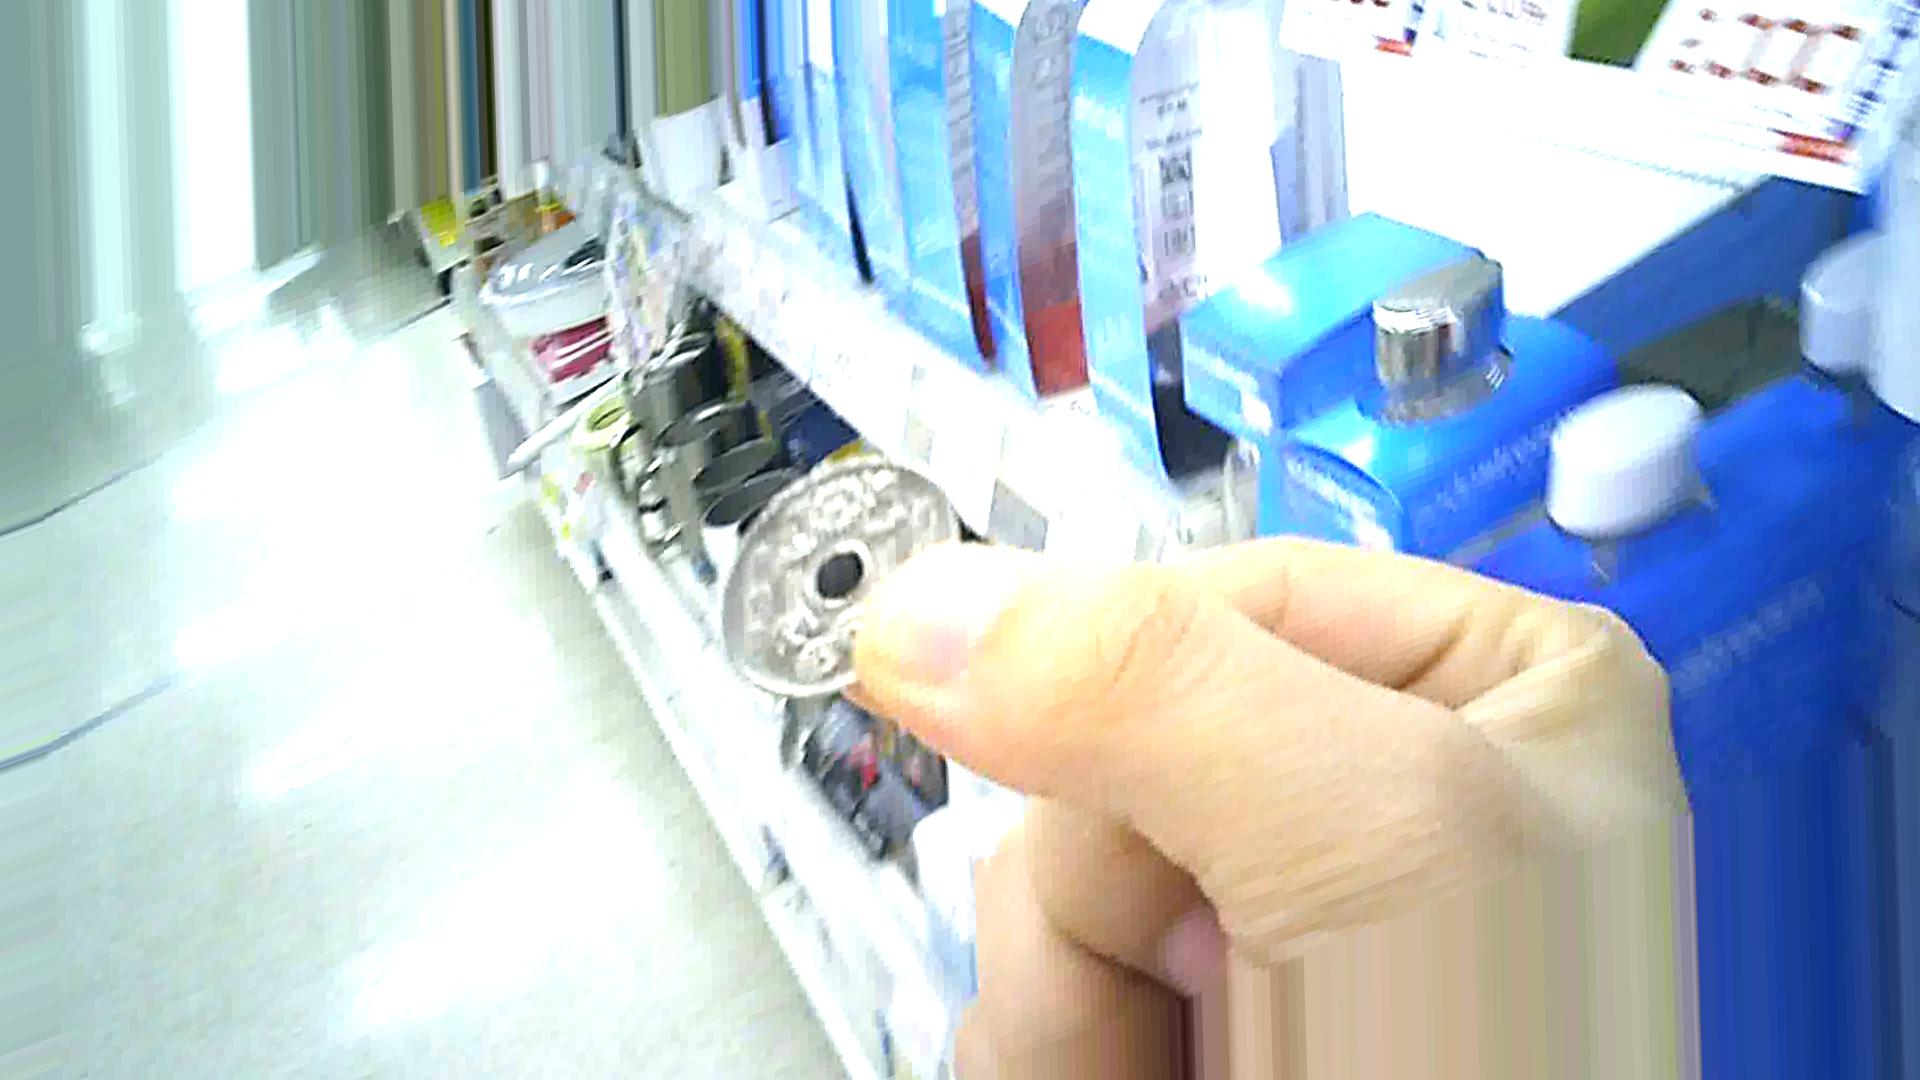50 Yen: (694, 469, 964, 712)
